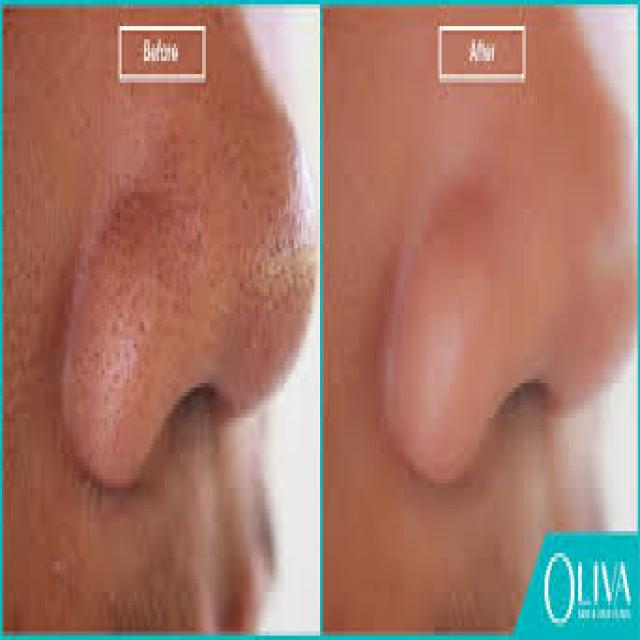Black Heads: (84, 214, 292, 403)
